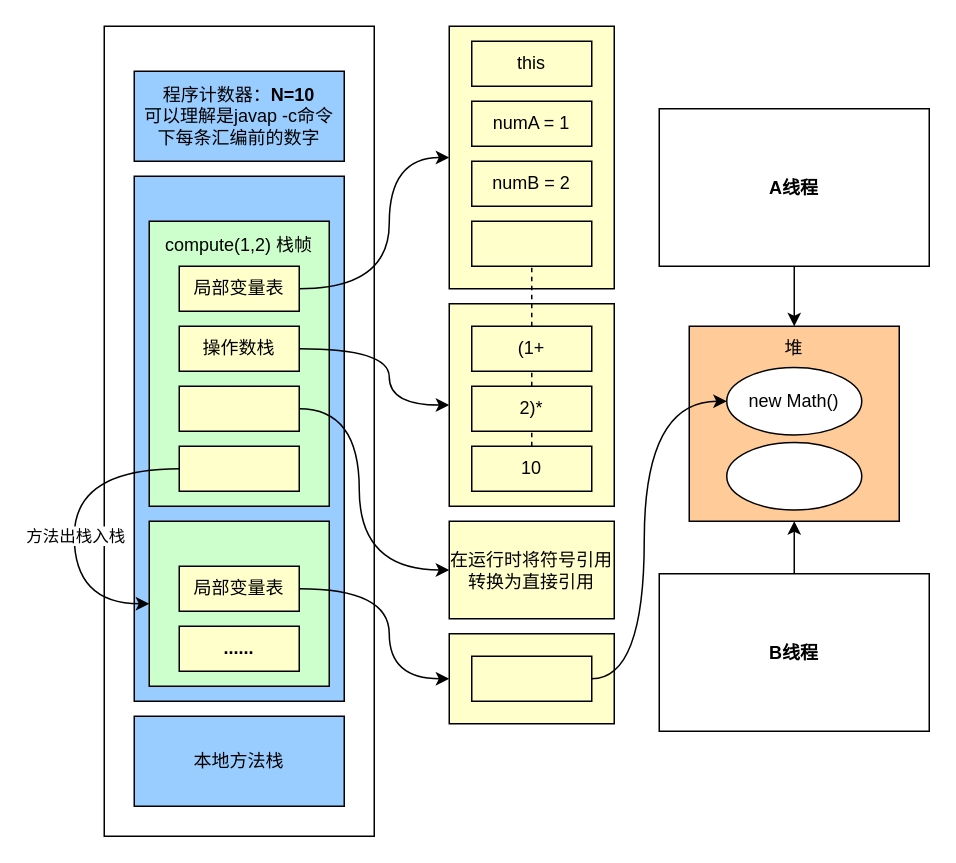
This 956x863 diagram has some shape labels left out. Each missing label, with the box of its shape:
main() 栈帧: (148, 520, 329, 686)
main线程: (103, 25, 374, 836)
math: (470, 655, 592, 701)
res = ?: (470, 220, 592, 266)
String[]{ ...... }: (725, 441, 862, 510)
动态链接: (178, 385, 299, 431)
方法出口: (178, 445, 299, 491)
线程栈: (133, 175, 344, 701)
